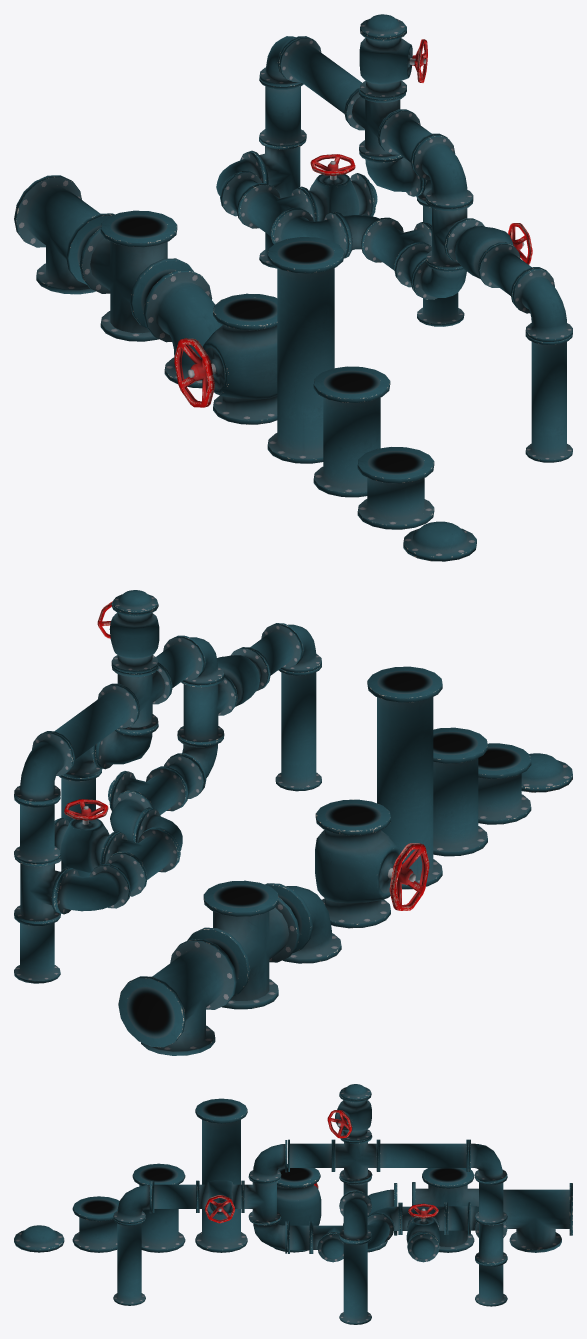
The model's file is pipes.glb.
The picture shows the model from 3 angles, top to bottom: view 1: azimuth 30°, elevation 25°; view 2: azimuth 150°, elevation 25°; view 3: azimuth 270°, elevation 25°; orthographic projection. The views are drawn at different scales.
Visible parts, largest first — view 1: SM_Pipe_Example_M_pipes_0, SM_Pipe_I3_M_pipes_0, SM_Pipe_Valve_M_pipes_0, SM_Pipe_+_M_pipes_0, SM_Pipe_I2_M_pipes_0, SM_Pipe_T_M_pipes_0, SM_Pipe_I1_M_pipes_0, SM_Pipe_r_M_pipes_0, SM_Pipe_Cap_M_pipes_0; view 2: SM_Pipe_Example_M_pipes_0, SM_Pipe_I3_M_pipes_0, SM_Pipe_Valve_M_pipes_0, SM_Pipe_T_M_pipes_0, SM_Pipe_+_M_pipes_0, SM_Pipe_I2_M_pipes_0, SM_Pipe_I1_M_pipes_0, SM_Pipe_r_M_pipes_0, SM_Pipe_Cap_M_pipes_0; view 3: SM_Pipe_Example_M_pipes_0, SM_Pipe_I3_M_pipes_0, SM_Pipe_T_M_pipes_0, SM_Pipe_+_M_pipes_0, SM_Pipe_I2_M_pipes_0, SM_Pipe_Valve_M_pipes_0, SM_Pipe_I1_M_pipes_0, SM_Pipe_Cap_M_pipes_0, SM_Pipe_r_M_pipes_0.
Boxes of the visible parts, left/top/right/bottom form: SM_Pipe_Example_M_pipes_0: left=216, top=14, right=572, bottom=462; SM_Pipe_I3_M_pipes_0: left=267, top=237, right=344, bottom=463; SM_Pipe_Valve_M_pipes_0: left=174, top=293, right=277, bottom=424; SM_Pipe_+_M_pipes_0: left=79, top=210, right=193, bottom=341; SM_Pipe_I2_M_pipes_0: left=313, top=366, right=390, bottom=497; SM_Pipe_T_M_pipes_0: left=14, top=175, right=114, bottom=294; SM_Pipe_I1_M_pipes_0: left=357, top=447, right=434, bottom=529; SM_Pipe_r_M_pipes_0: left=143, top=269, right=222, bottom=388; SM_Pipe_Cap_M_pipes_0: left=403, top=521, right=476, bottom=561; SM_Pipe_Example_M_pipes_0: left=14, top=590, right=321, bottom=983; SM_Pipe_I3_M_pipes_0: left=367, top=666, right=442, bottom=889; SM_Pipe_Valve_M_pipes_0: left=315, top=799, right=429, bottom=928; SM_Pipe_T_M_pipes_0: left=118, top=938, right=236, bottom=1055; SM_Pipe_+_M_pipes_0: left=187, top=880, right=299, bottom=1009; SM_Pipe_I2_M_pipes_0: left=433, top=727, right=487, bottom=856; SM_Pipe_I1_M_pipes_0: left=478, top=743, right=531, bottom=824; SM_Pipe_r_M_pipes_0: left=265, top=883, right=341, bottom=963; SM_Pipe_Cap_M_pipes_0: left=521, top=753, right=572, bottom=792; SM_Pipe_Example_M_pipes_0: left=113, top=1084, right=507, bottom=1324; SM_Pipe_I3_M_pipes_0: left=195, top=1098, right=247, bottom=1252; SM_Pipe_T_M_pipes_0: left=503, top=1183, right=572, bottom=1252; SM_Pipe_+_M_pipes_0: left=412, top=1168, right=478, bottom=1252; SM_Pipe_I2_M_pipes_0: left=132, top=1163, right=185, bottom=1252; SM_Pipe_Valve_M_pipes_0: left=273, top=1164, right=321, bottom=1252; SM_Pipe_I1_M_pipes_0: left=72, top=1196, right=119, bottom=1252; SM_Pipe_Cap_M_pipes_0: left=14, top=1225, right=64, bottom=1252; SM_Pipe_r_M_pipes_0: left=343, top=1183, right=397, bottom=1252.
Size of the model in its own units: 220 by 208 by 495.
Materials: 1 (1 with a texture image).
